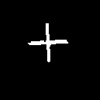single_crochet: (28, 24, 67, 61)
